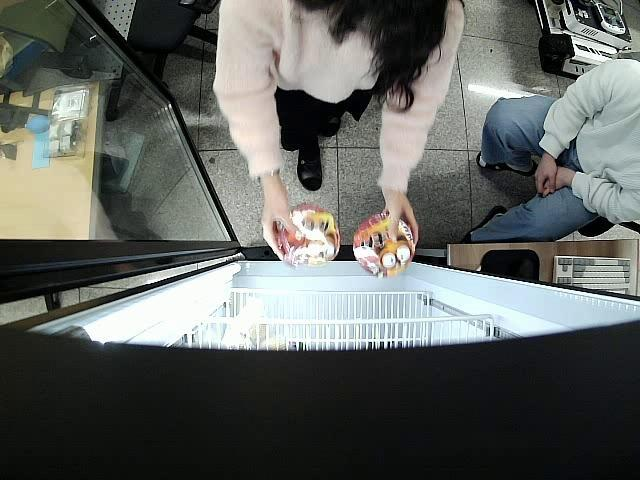05_nuguri_L: (278, 204, 338, 270), (353, 216, 415, 276)
